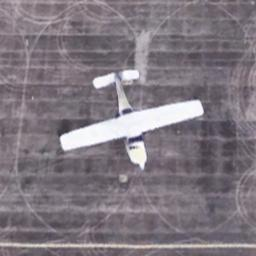Airplane: (58, 68, 204, 171)
